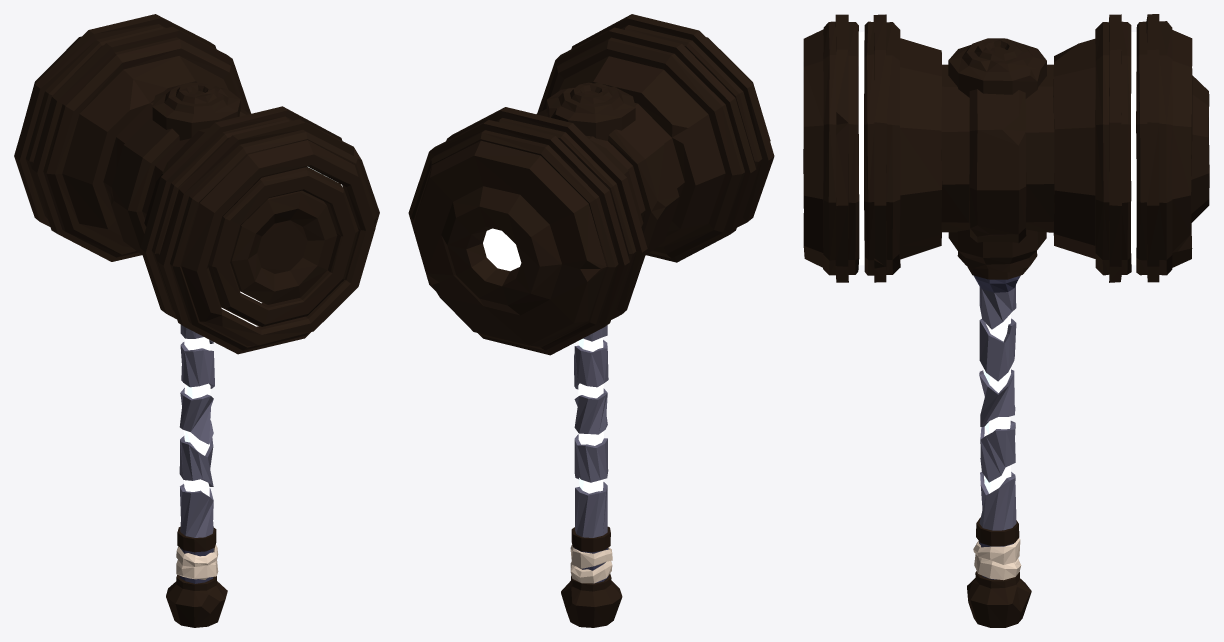
The model's file is SFFA_Hammer_Stylized_002.fbx.
The picture shows the model from 3 angles, left to right: view 1: azimuth 30°, elevation 25°; view 2: azimuth 150°, elevation 25°; view 3: azimuth 270°, elevation 25°; orthographic projection. The views are drawn at different scales.
Parts seen in each view (by area): view 1: SFFA_Hammer_Stylized_002; view 2: SFFA_Hammer_Stylized_002; view 3: SFFA_Hammer_Stylized_002.
Part boxes in pixels (bbox=[...]): SFFA_Hammer_Stylized_002: bbox=[14, 14, 379, 627]; SFFA_Hammer_Stylized_002: bbox=[408, 14, 774, 627]; SFFA_Hammer_Stylized_002: bbox=[803, 14, 1209, 627].
Size of the model in its own units: 22.69 by 54.71 by 34.07.
